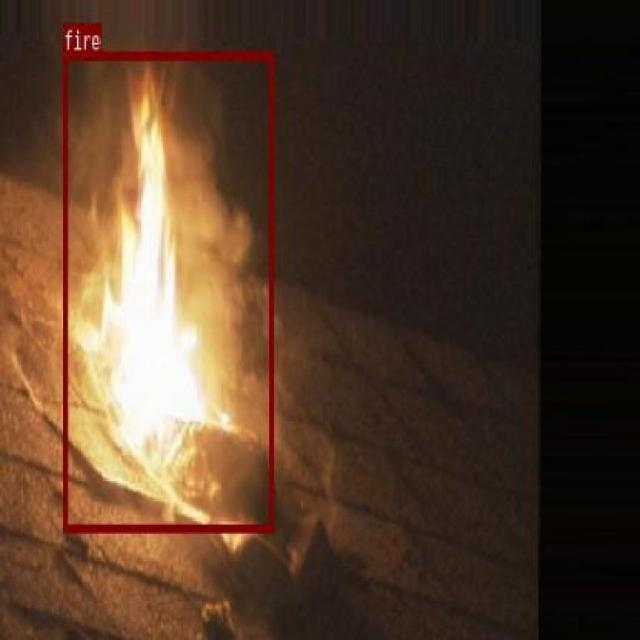Fire: (62, 50, 273, 532)
